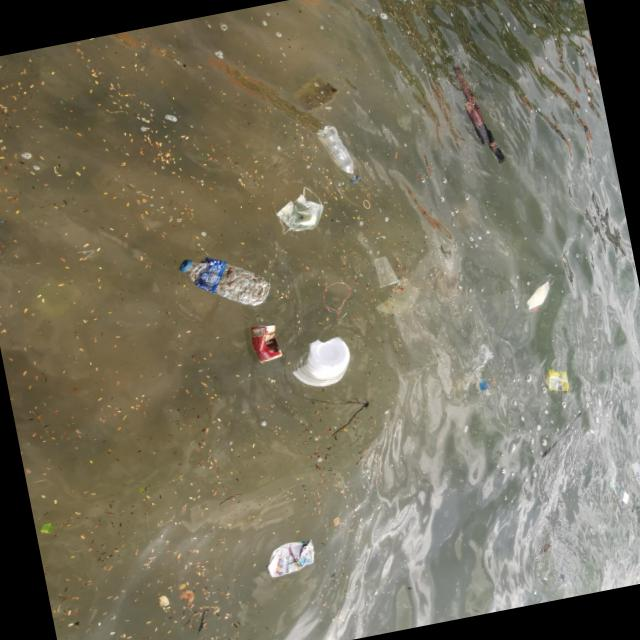can: (248, 324, 280, 364)
plastic: (176, 245, 271, 316), (314, 121, 357, 186)
plastic bottle: (450, 343, 500, 402), (295, 71, 340, 115), (370, 254, 400, 289), (542, 364, 571, 396), (630, 462, 640, 495)
unknow: (446, 60, 509, 170), (287, 334, 356, 392), (272, 185, 328, 238), (262, 539, 318, 579), (520, 276, 560, 314)
